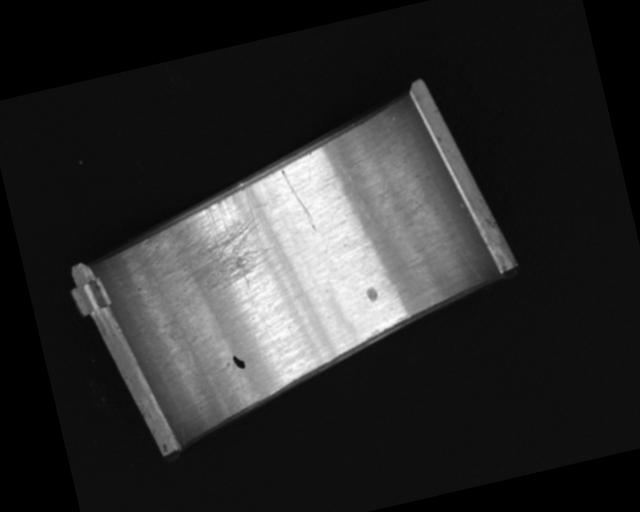blot: (231, 351, 246, 371)
bruise: (365, 286, 379, 302)
nick: (413, 190, 482, 293), (280, 164, 316, 235)
scratch: (133, 182, 279, 306)
